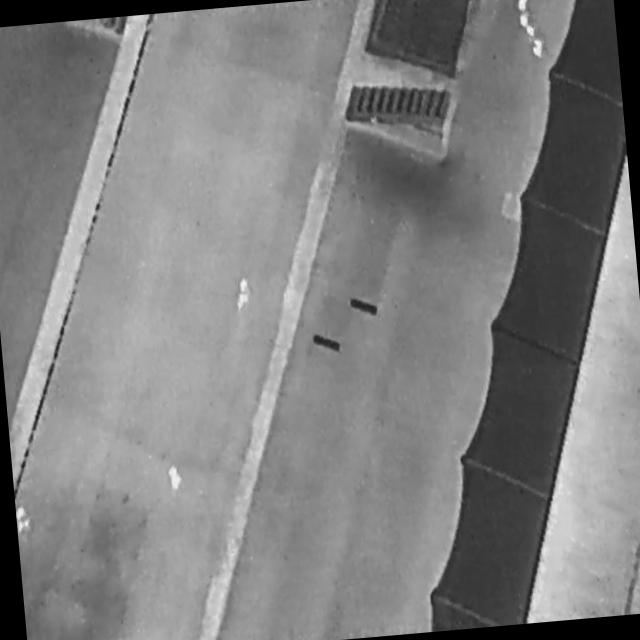person: (231, 273, 257, 316), (164, 462, 187, 496), (16, 505, 33, 536)
